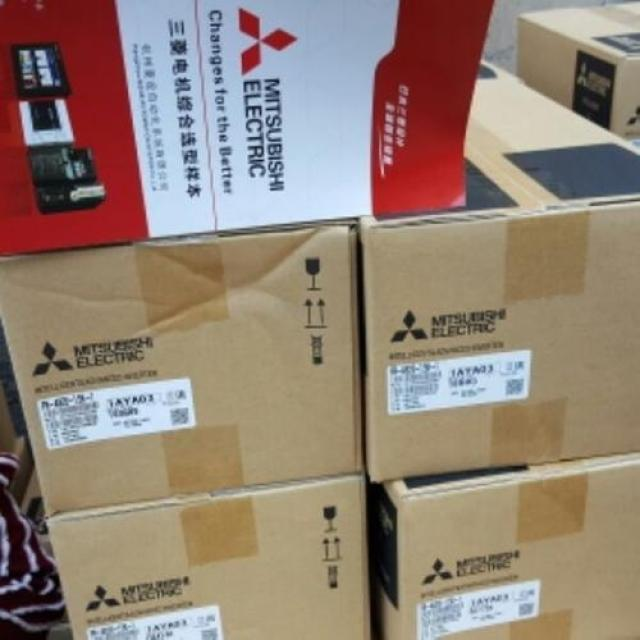box: (0, 1, 495, 257), (358, 81, 640, 484), (0, 218, 364, 517), (46, 471, 370, 640), (370, 452, 640, 640), (516, 4, 640, 140)
